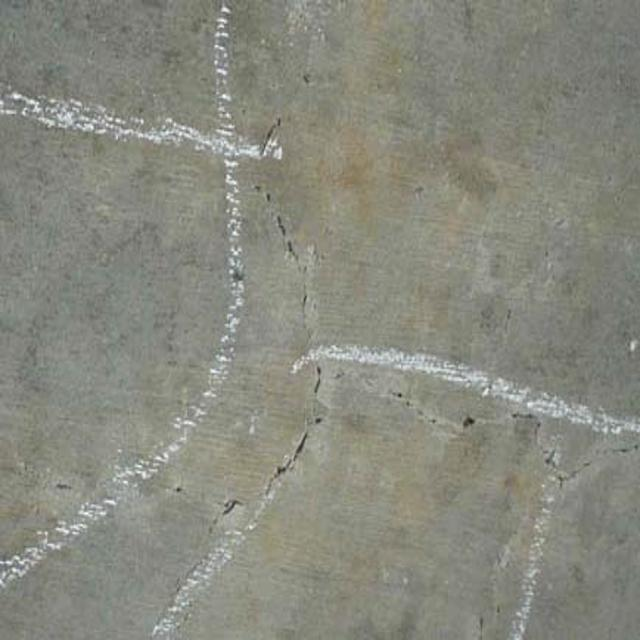crack: (196, 114, 590, 572)
